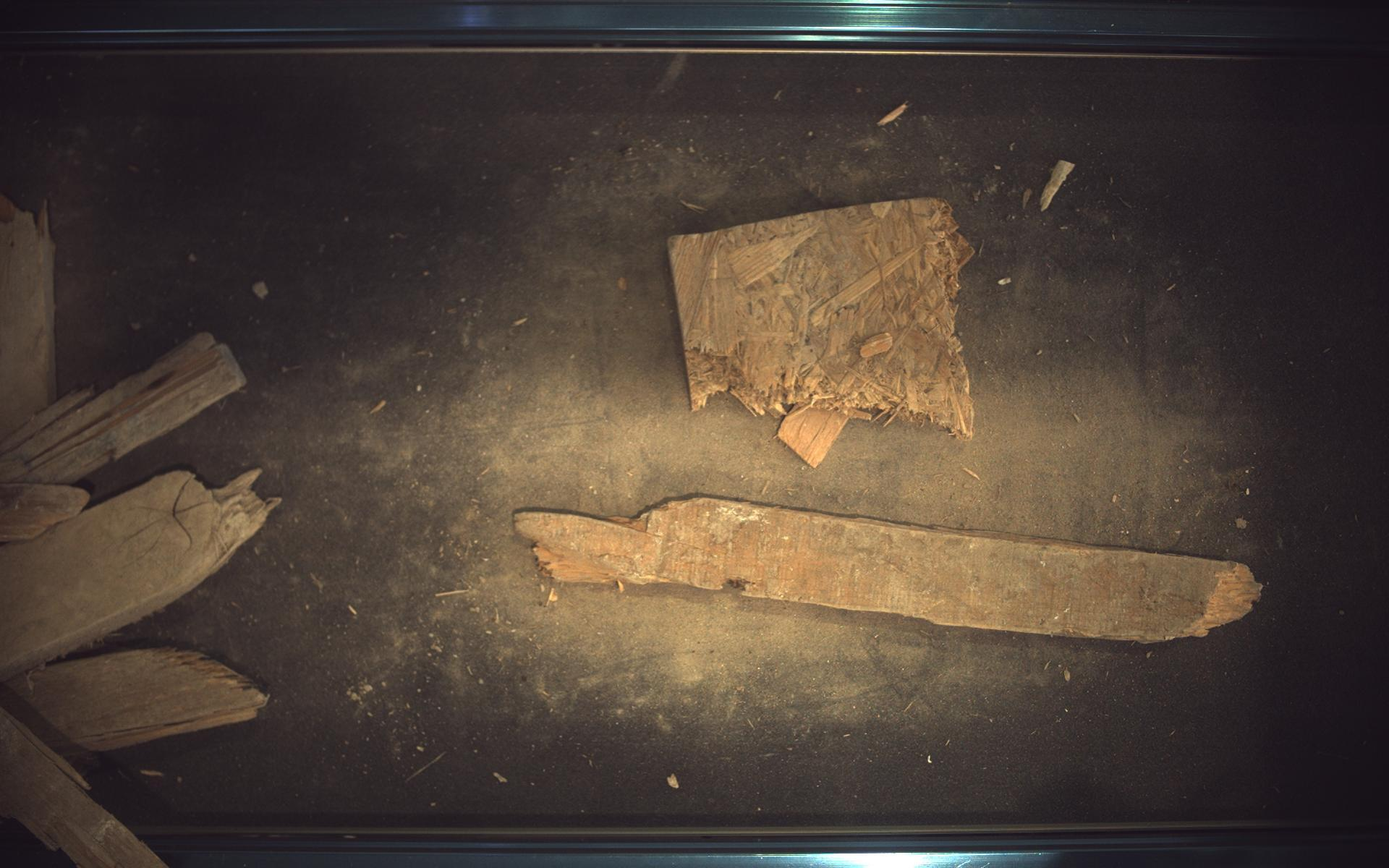wood: (514, 497, 1264, 643), (669, 197, 976, 467)
